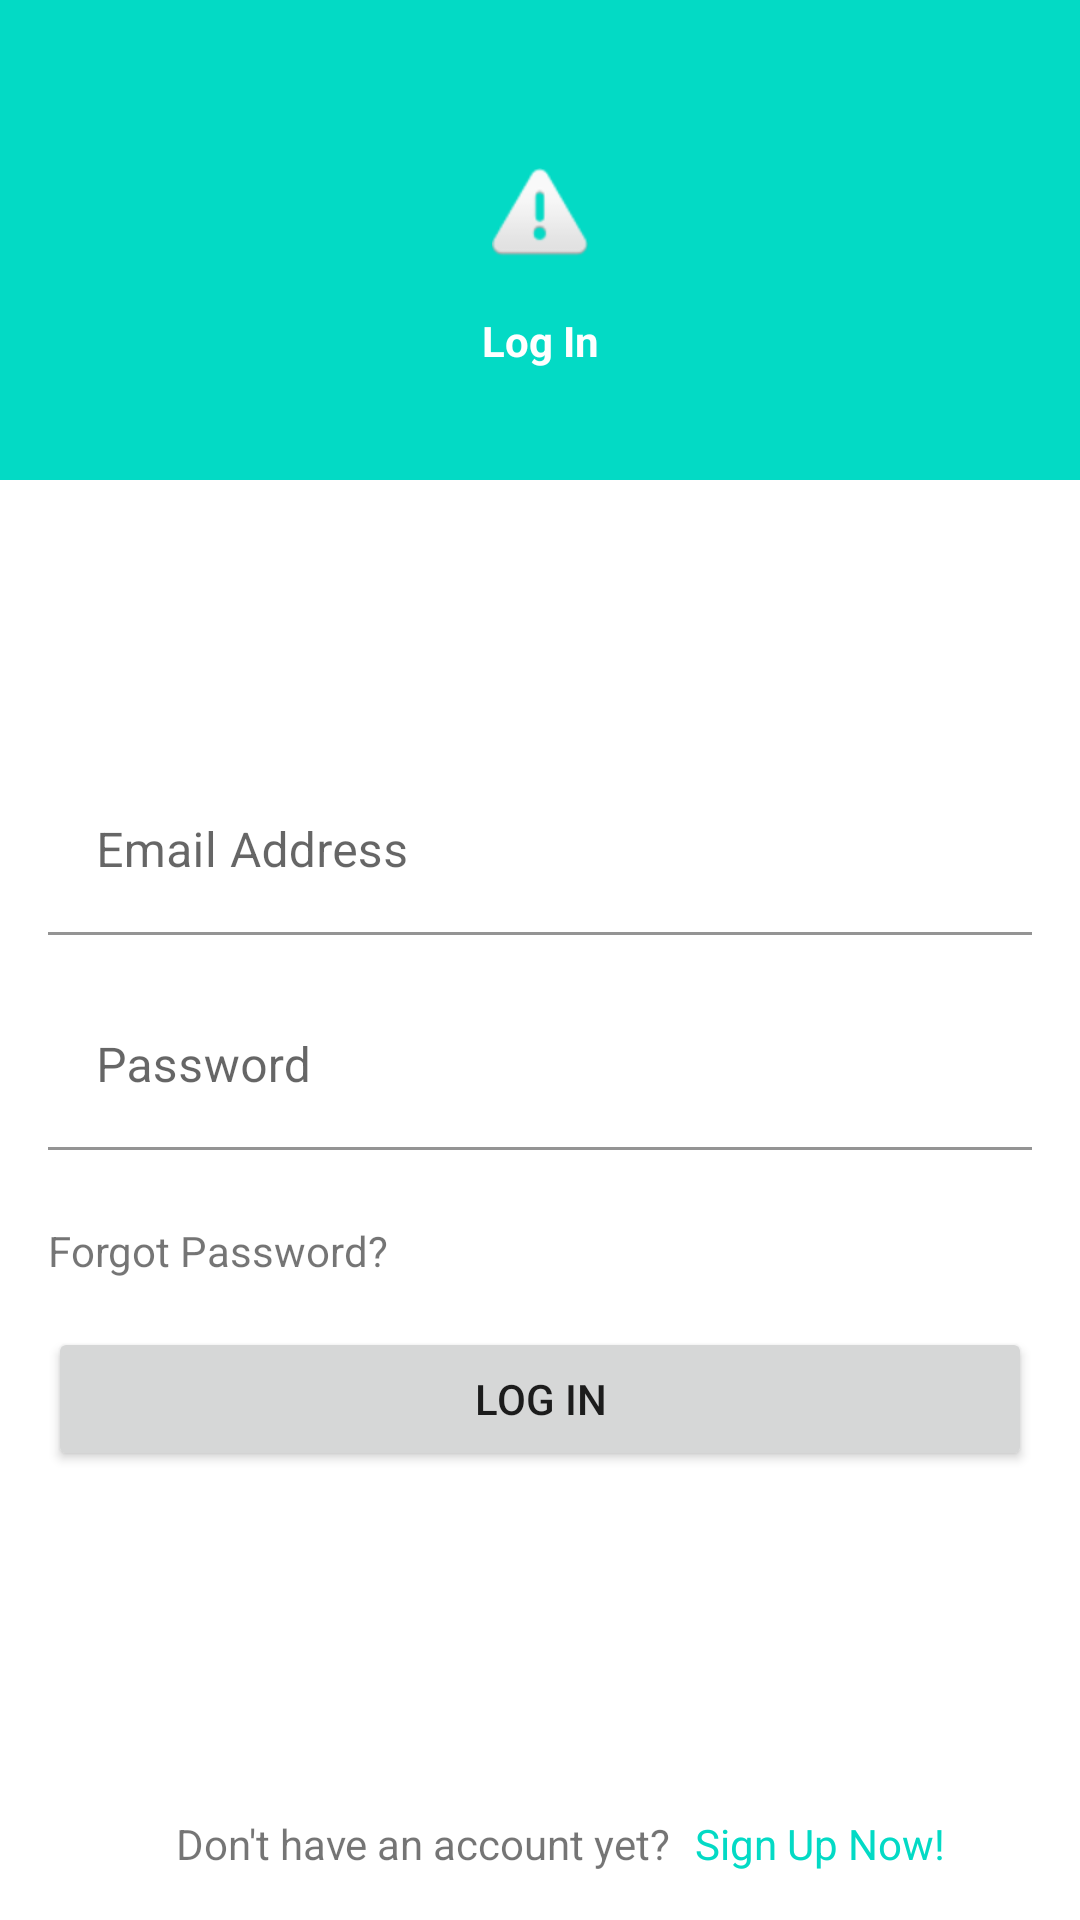

Icons on this 1080w x 1920h Android screen, each with its box as (x1,y1,x2,y2):
alert: (492,168,588,255)
